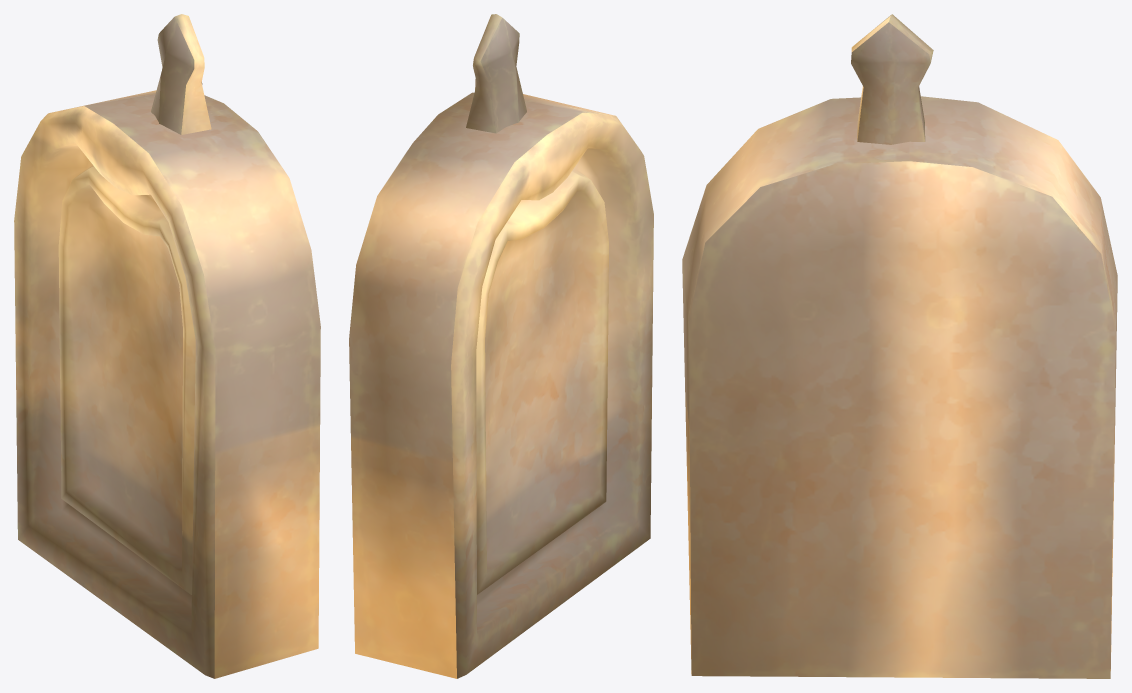
Rendered from SM_Stylized_Tombstone_B.fbx.
3 views of the same model, side by side, from view 1: azimuth 30°, elevation 25°; view 2: azimuth 150°, elevation 25°; view 3: azimuth 270°, elevation 25° (orthographic). The views are drawn at different scales.
Visible parts, largest first — view 1: SM_Stylized_Tombstone_B_LOD0; view 2: SM_Stylized_Tombstone_B_LOD0; view 3: SM_Stylized_Tombstone_B_LOD0.
Part boxes in pixels (x1,y1,x2,y2): SM_Stylized_Tombstone_B_LOD0: (14, 14, 320, 678); SM_Stylized_Tombstone_B_LOD0: (349, 14, 653, 678); SM_Stylized_Tombstone_B_LOD0: (682, 14, 1117, 678).
Bounding box in the file's own units: 27.99 × 80.74 × 131.
